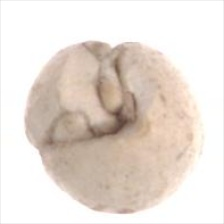L3: (42, 47, 147, 147)
L4: (26, 40, 204, 215)
